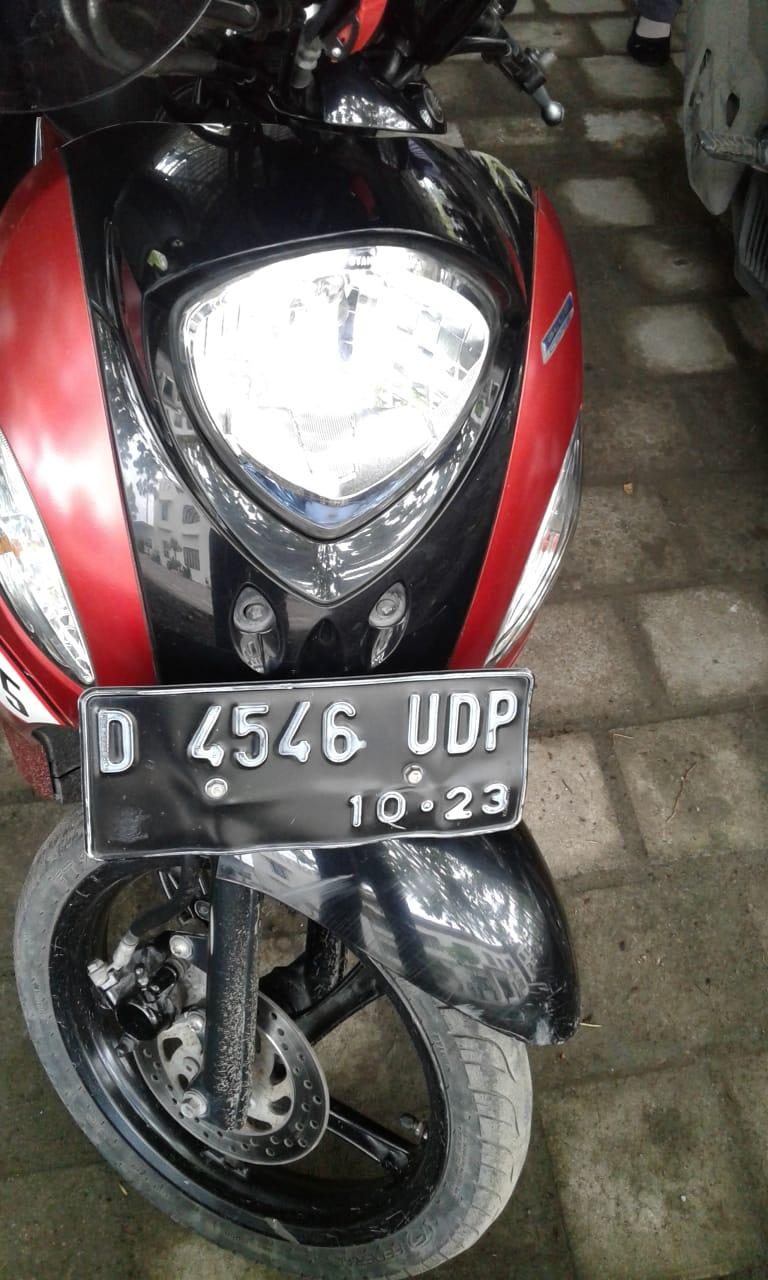plat: (86, 680, 527, 846)
